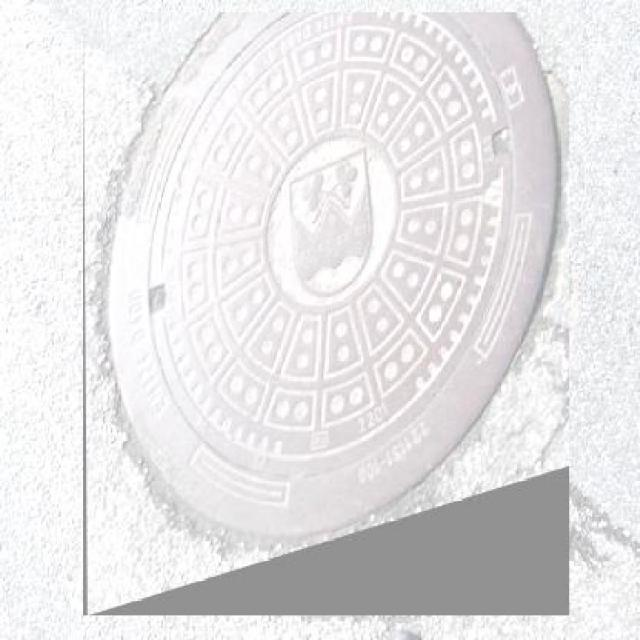Manhole: (84, 11, 570, 616)
